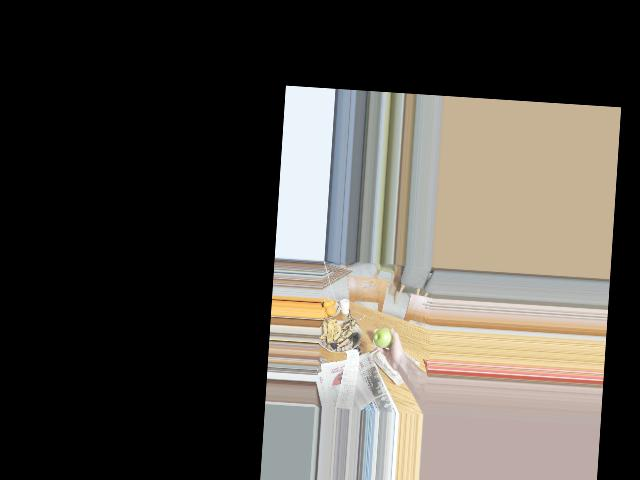apple: (374, 326, 396, 350)
